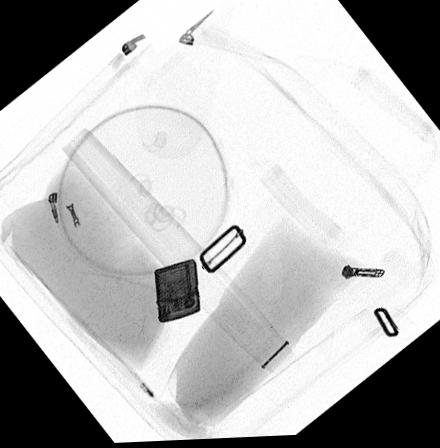Lighter: (152, 259, 199, 324)
